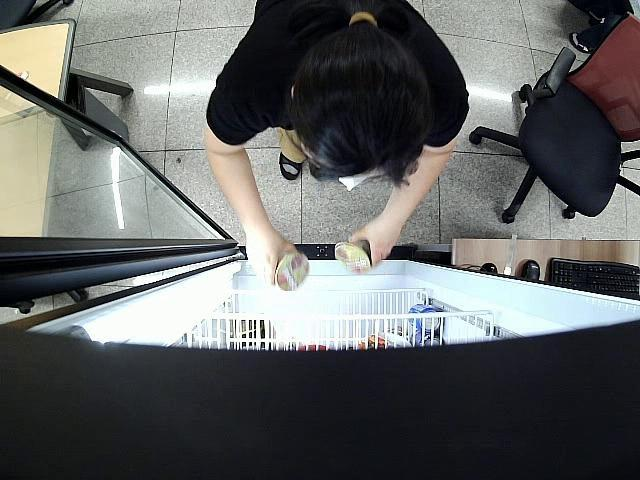04_chapagetti_S: (275, 251, 310, 290), (336, 240, 371, 276)
